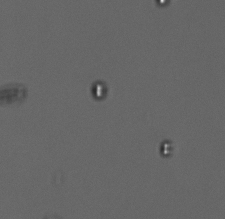Dead Cell: (1, 82, 26, 107)
Living Cell: (90, 81, 108, 101), (157, 138, 174, 157), (151, 1, 172, 6)
